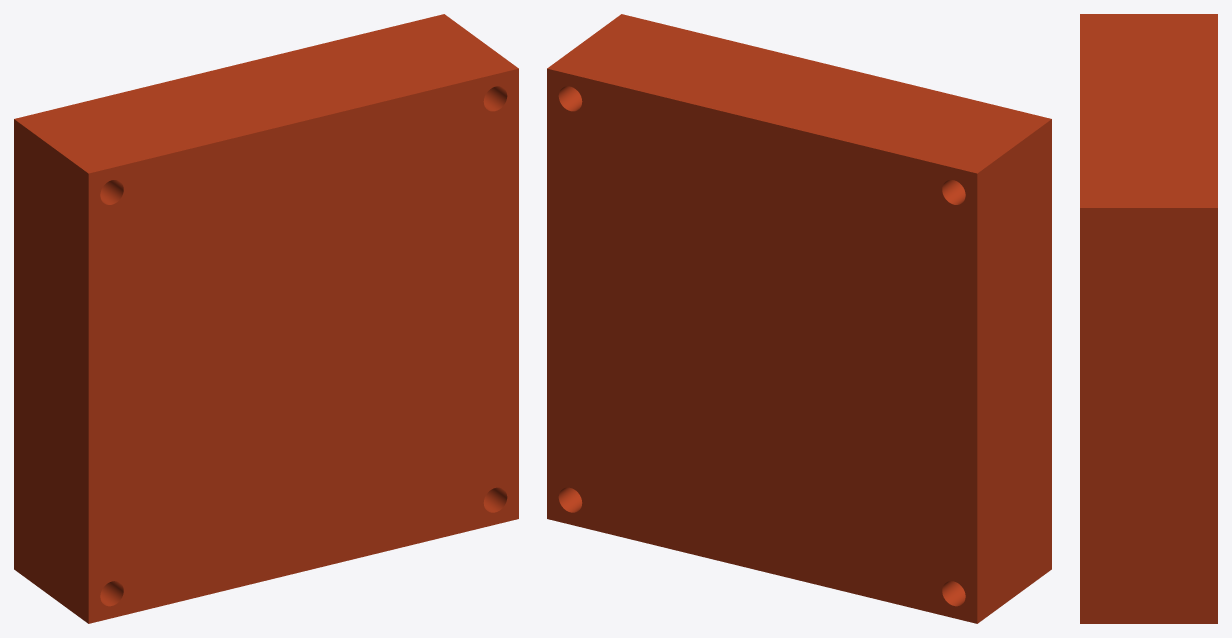
Rendered from Assembly 2 - Part 1.obj.
The picture shows the model from 3 angles, left to right: view 1: azimuth 30°, elevation 25°; view 2: azimuth 150°, elevation 25°; view 3: azimuth 270°, elevation 25°; orthographic projection. The views are drawn at different scales.
Visible parts, largest first — view 1: mesh1, mesh4, mesh3; view 2: mesh2, mesh4, mesh3; view 3: mesh6, mesh3.
Part boxes in pixels (x1,y1,x2,y2): mesh1: (88, 68, 518, 623); mesh4: (14, 119, 88, 623); mesh3: (14, 14, 518, 173); mesh2: (547, 68, 977, 623); mesh4: (977, 119, 1051, 623); mesh3: (547, 14, 1051, 173); mesh6: (1080, 208, 1217, 623); mesh3: (1080, 14, 1217, 207).
Size of the model in its own units: 0.055 by 0.055 by 0.0165.
